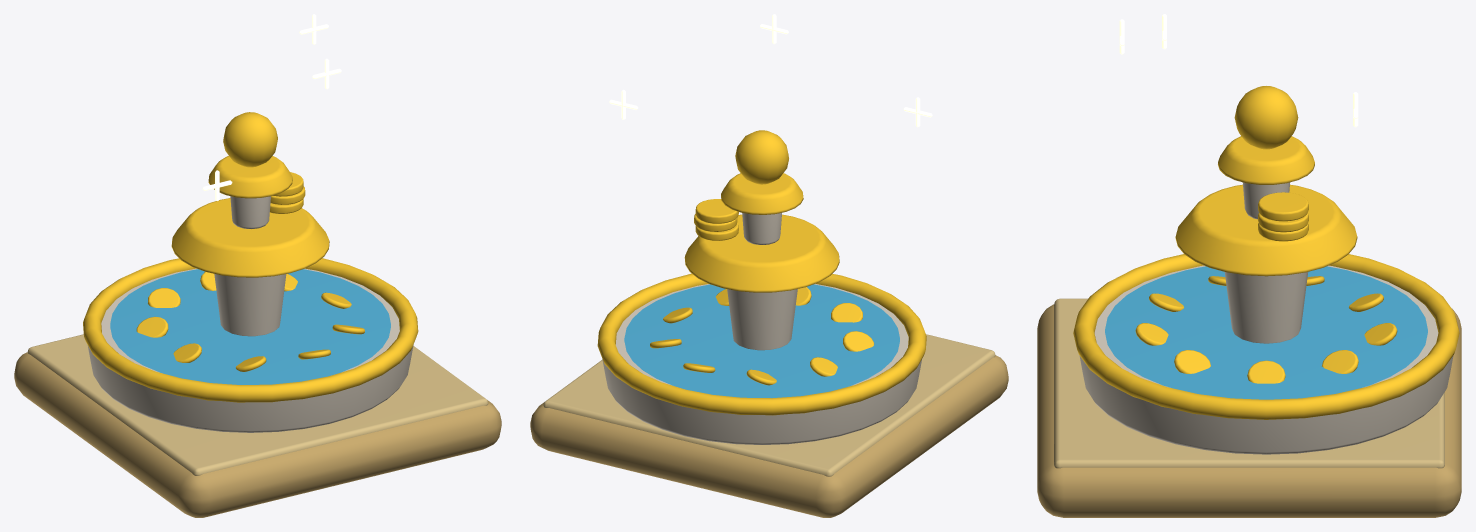
File: c_jackpot.glb
3 views of the same model, side by side, from view 1: azimuth 30°, elevation 25°; view 2: azimuth 150°, elevation 25°; view 3: azimuth 270°, elevation 25° (orthographic). The views are drawn at different scales.
Parts seen in each view (by area): view 1: Cube; view 2: Cube; view 3: Cube.
Boxes of the visible parts, box(x1,y1,x2,y2) form: Cube: box(14, 14, 501, 517); Cube: box(530, 14, 1008, 517); Cube: box(1037, 14, 1461, 517).
Size of the model in its own units: 1 by 1.14 by 1.
